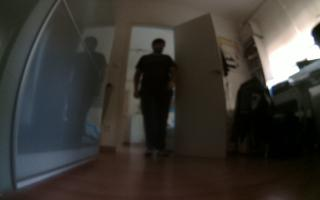person: (132, 35, 185, 159)
